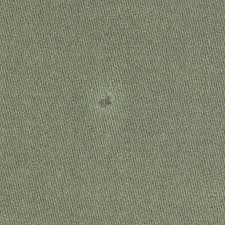Hole: (68, 70, 145, 136)
